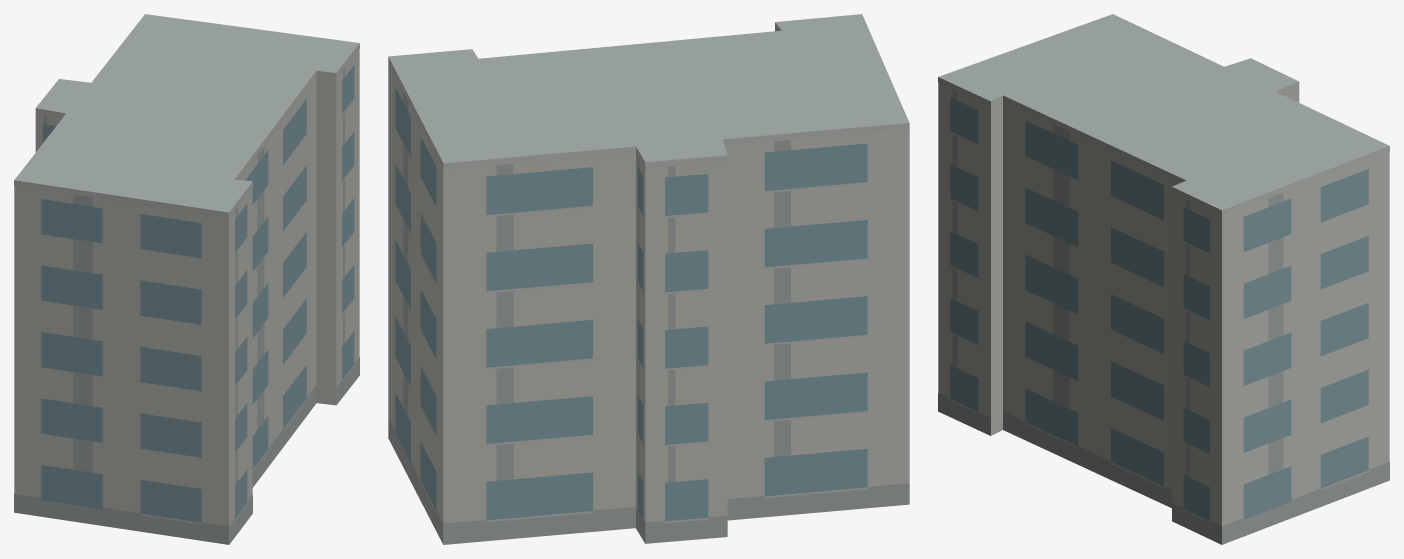
File: survey-upis-32885076.glb
3 renders of one model, left to right at view 1: azimuth 30°, elevation 25°; view 2: azimuth 150°, elevation 25°; view 3: azimuth 270°, elevation 25°, orthographic. The views are drawn at different scales.
Visible parts, largest first — view 1: survey-upis-32885076.tmp; view 2: survey-upis-32885076.tmp; view 3: survey-upis-32885076.tmp.
Part boxes in pixels (x1,y1,x2,y2): survey-upis-32885076.tmp: [14, 14, 359, 544]; survey-upis-32885076.tmp: [388, 14, 909, 544]; survey-upis-32885076.tmp: [938, 14, 1389, 544].
Bounding box in the file's own units: 17.88 × 14.2 × 17.38.
